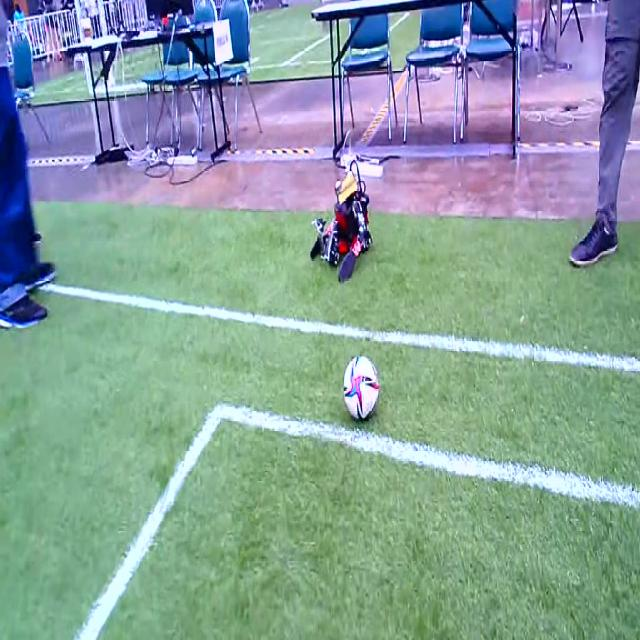ball: (343, 356, 379, 420)
